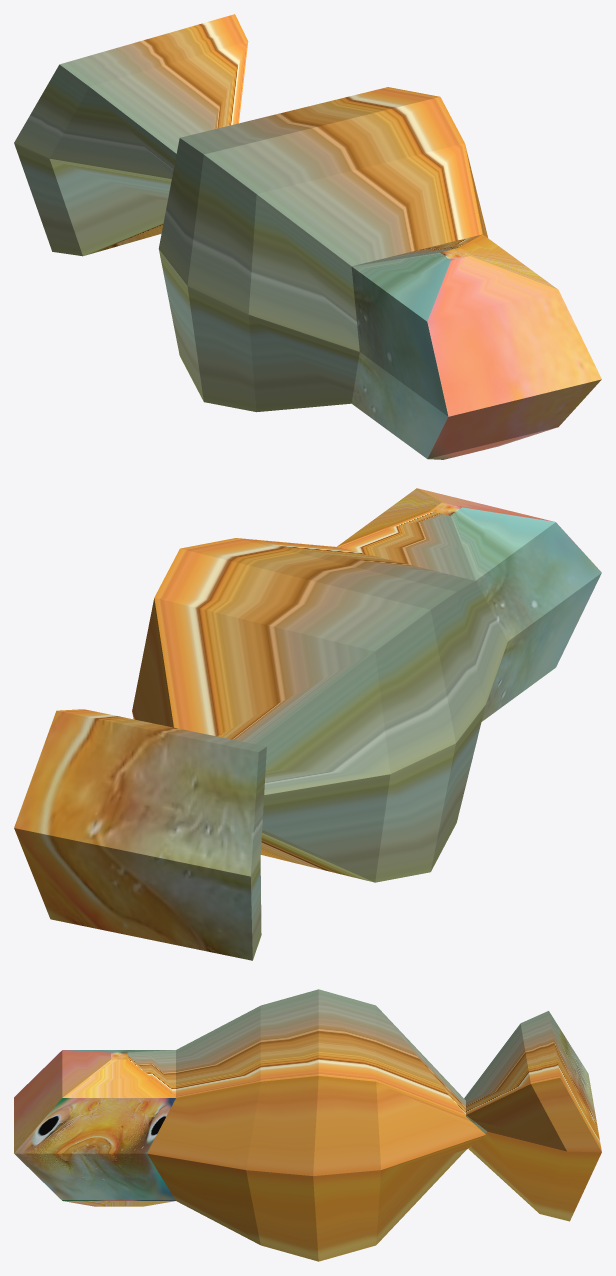
The model's file is fishAnimFix.fbx.
3 views of the same model, one above another, from view 1: azimuth 30°, elevation 25°; view 2: azimuth 150°, elevation 25°; view 3: azimuth 270°, elevation 25° (orthographic). The views are drawn at different scales.
Parts seen in each view (by area): view 1: Cube, Cube.001; view 2: Cube, Cube.001; view 3: Cube, Cube.001, Cube.003.
Part boxes in pixels (x1=…): Cube: x1=158, y1=87, x2=601, y2=459; Cube.001: x1=14, y1=14, x2=248, y2=256; Cube: x1=132, y1=488, x2=601, y2=882; Cube.001: x1=14, y1=709, x2=266, y2=960; Cube: x1=14, y1=989, x2=485, y2=1261; Cube.001: x1=464, y1=1011, x2=601, y2=1221; Cube.003: x1=14, y1=1098, x2=175, y2=1200.
Bounding box in the file's own units: 422 × 361 × 1034.
